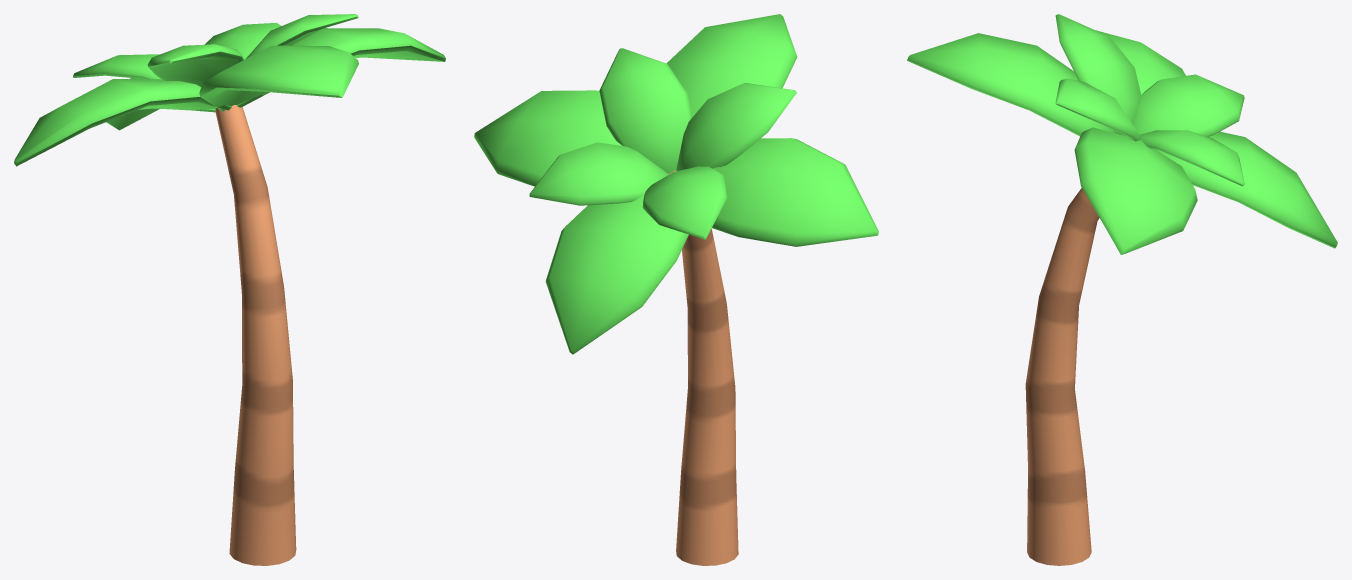
File: Palm001.fbx
The picture shows the model from 3 angles, left to right: view 1: azimuth 30°, elevation 25°; view 2: azimuth 150°, elevation 25°; view 3: azimuth 270°, elevation 25°; orthographic projection. The views are drawn at different scales.
Parts seen in each view (by area): view 1: Palm001; view 2: Palm001; view 3: Palm001.
Part boxes in pixels (x1,y1,x2,y2): Palm001: (14, 14, 445, 565); Palm001: (474, 14, 878, 565); Palm001: (907, 14, 1337, 565).
Size of the model in its own units: 394 by 461 by 357.
